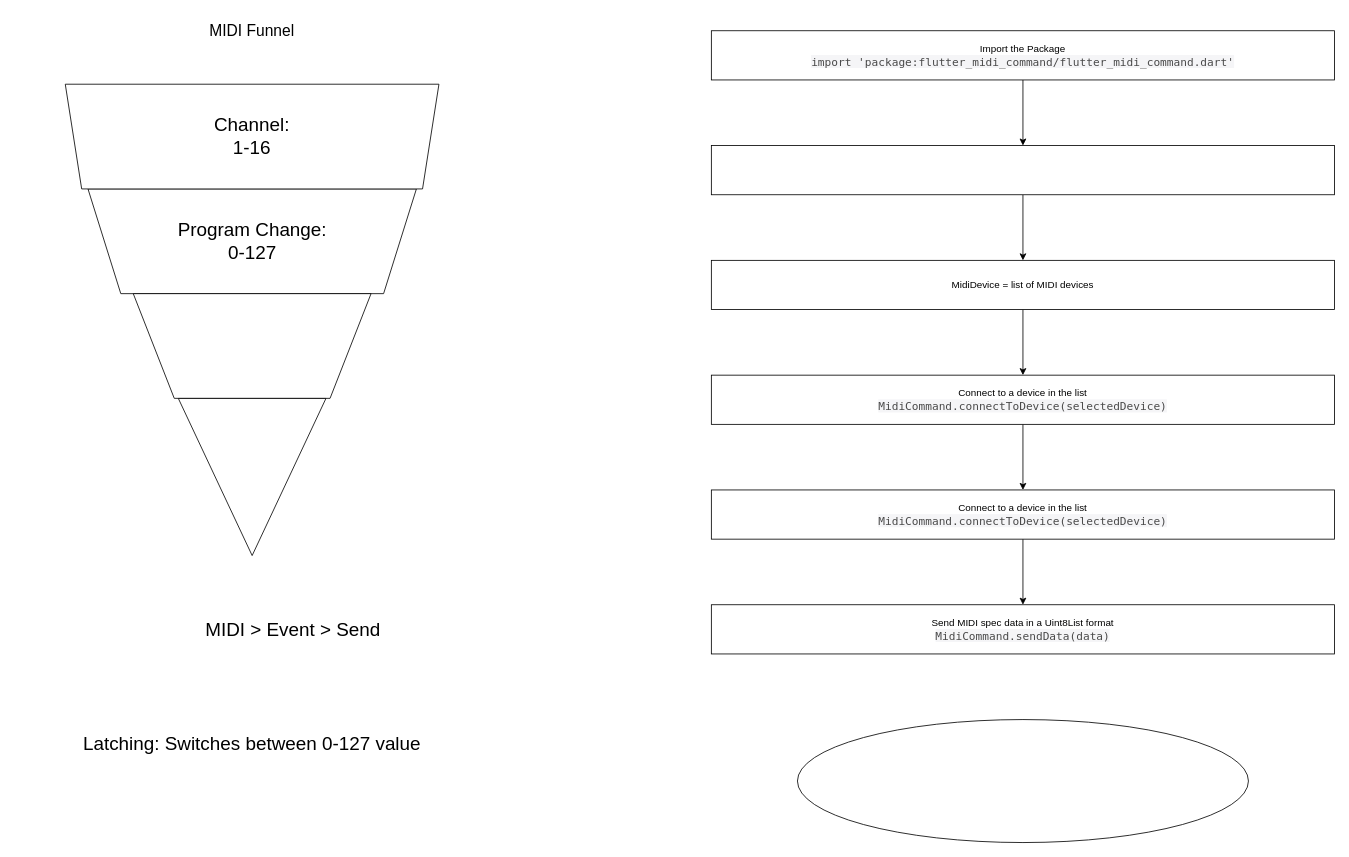
The diagram is 1349 pixels wide and 857 high, and some of its shapes have lost their labels. Each missing label, with the box of its shape:
CHECK MidiCommand subtypes: (797, 719, 1248, 843)
Control Change: 0-127: (132, 293, 371, 398)
List of all Available MIDI devices MidiCommand().devices: (711, 145, 1335, 195)
Value (0-127): (178, 398, 326, 556)
